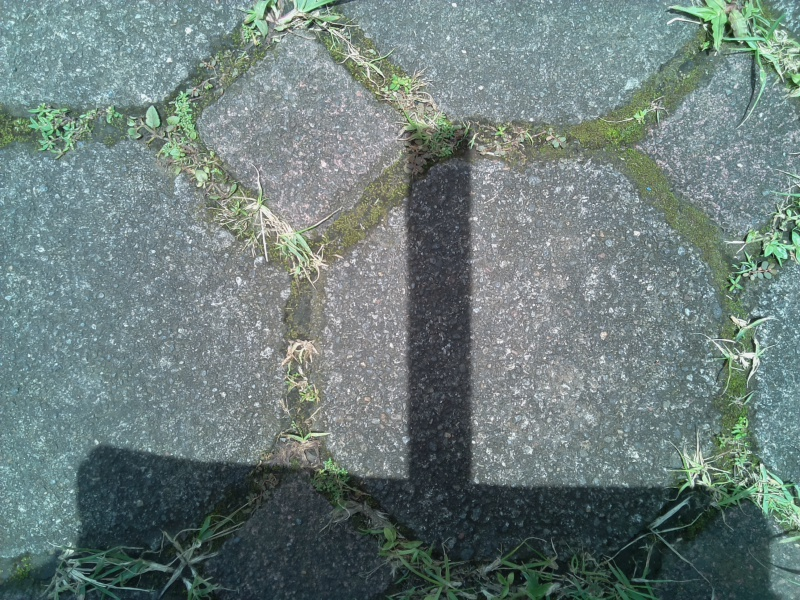Weed: (382, 542, 657, 600), (43, 518, 220, 596), (672, 1, 800, 99), (229, 187, 330, 280), (383, 74, 468, 161), (726, 204, 800, 287), (137, 96, 214, 172), (226, 1, 365, 41), (22, 97, 108, 154), (712, 317, 770, 392), (740, 465, 800, 536), (665, 438, 722, 494), (279, 336, 320, 401), (308, 456, 354, 505)
